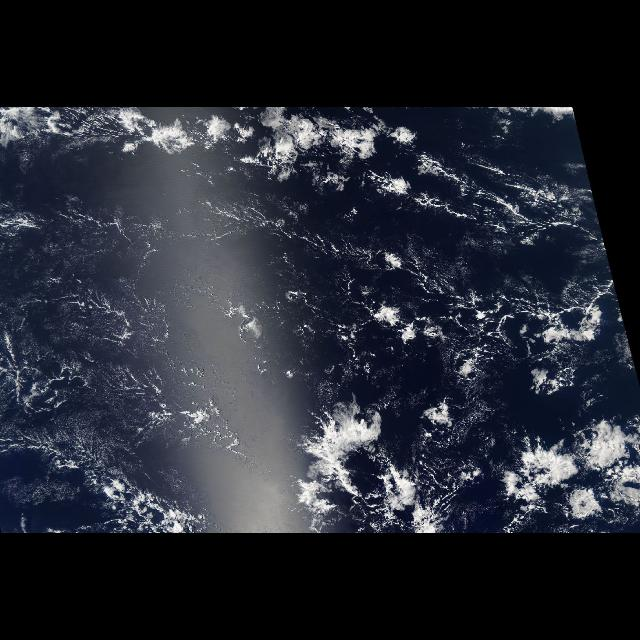Flower: (300, 400, 636, 530)
Gravel: (258, 228, 628, 392), (14, 363, 216, 522)
Sugar: (6, 188, 252, 524)
